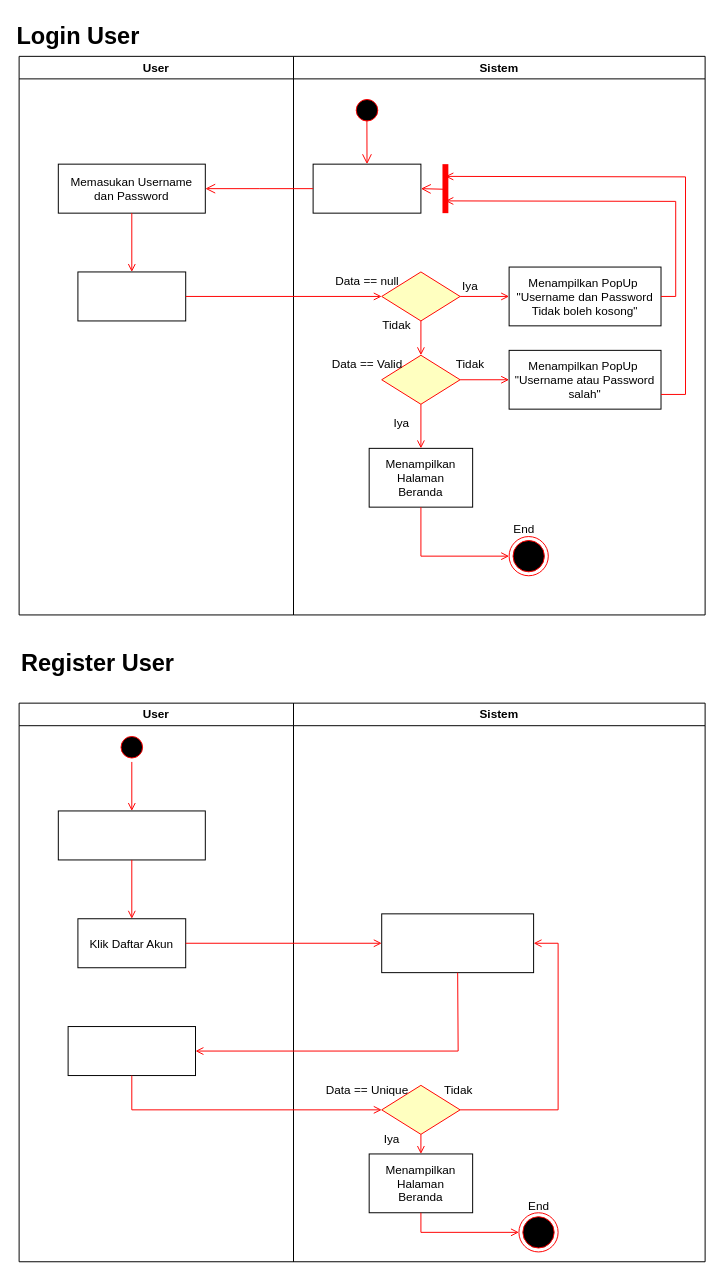
This 722x1279 diagram has some shape labels left out. Each missing label, with the centre of its shape:
Input Data Registrasi: (131,1051)
Klik Login: (131,296)
Masuk Halaman Login dan Registrasi: (131,835)
Menampilkan Form Login: (366,188)
Menampilkan Form Pendaftaran: (457,943)
